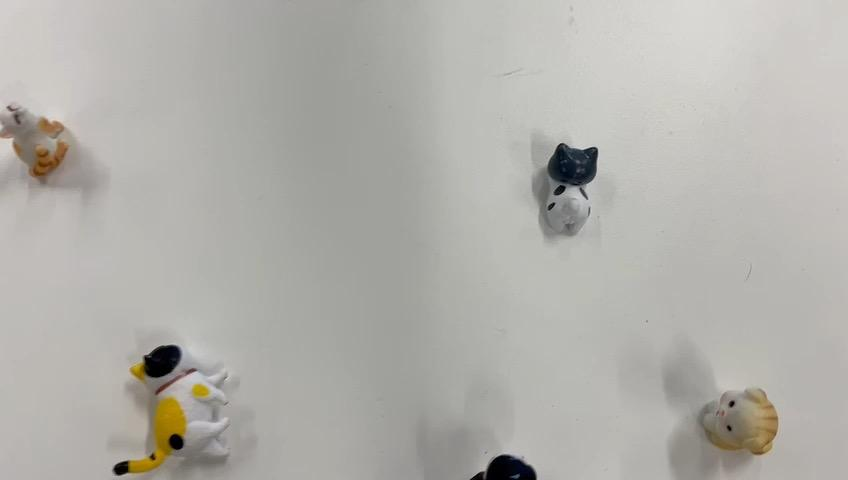pet: (108, 338, 236, 476), (699, 380, 783, 461), (541, 135, 605, 237), (0, 99, 76, 183)
